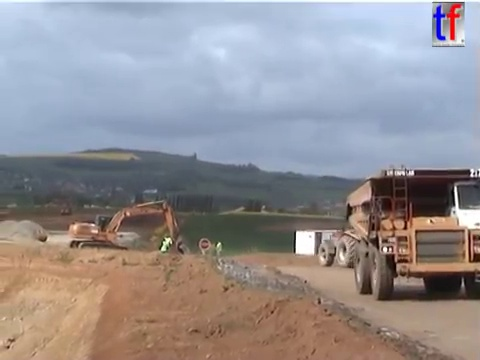excavator: (66, 198, 192, 262)
truck: (343, 163, 480, 301), (315, 208, 447, 270), (1, 204, 14, 224), (58, 205, 72, 216)
worker: (212, 237, 225, 259), (157, 237, 170, 258), (162, 232, 173, 252)
